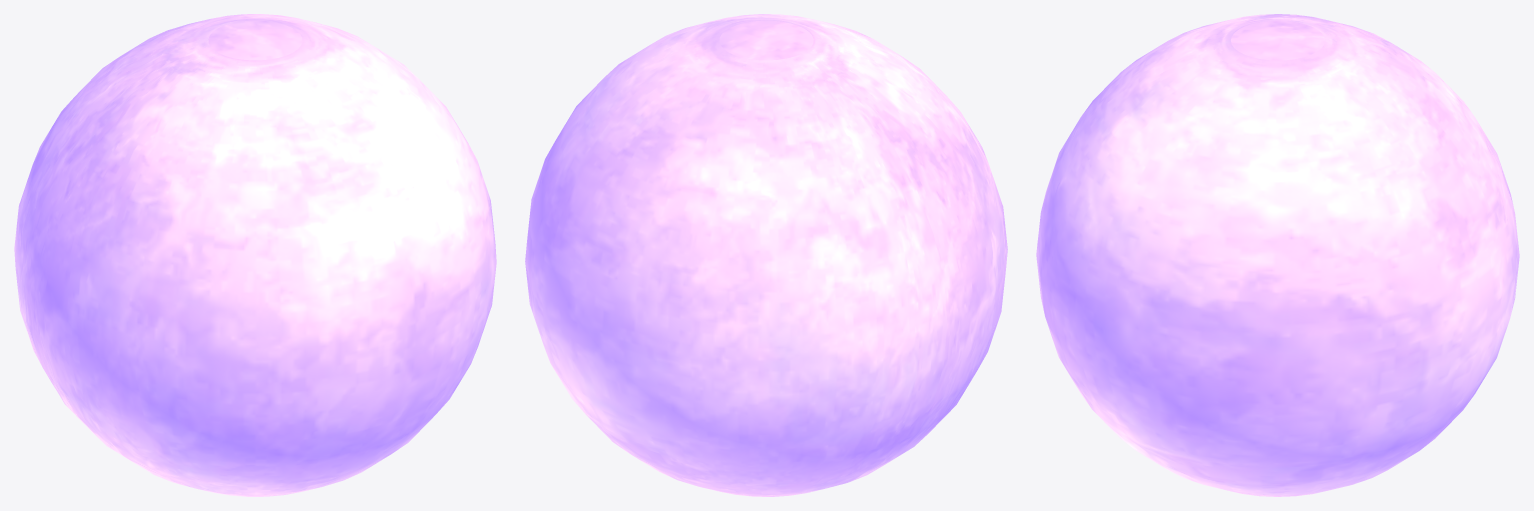
File: purple-planet-02-transformed.glb
3 renders of one model, left to right at view 1: azimuth 30°, elevation 25°; view 2: azimuth 150°, elevation 25°; view 3: azimuth 270°, elevation 25°, orthographic.
Visible parts, largest first — view 1: Planet_0; view 2: Planet_0; view 3: Planet_0.
Part boxes in pixels (<box>): Planet_0: <box>14,14,496,496</box>; Planet_0: <box>525,14,1007,496</box>; Planet_0: <box>1036,14,1519,496</box>.
Bounding box in the file's own units: 2 × 2 × 2.
Materials: 1 (1 with a texture image).
